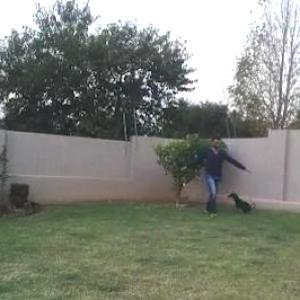land: (161, 120, 239, 226)
